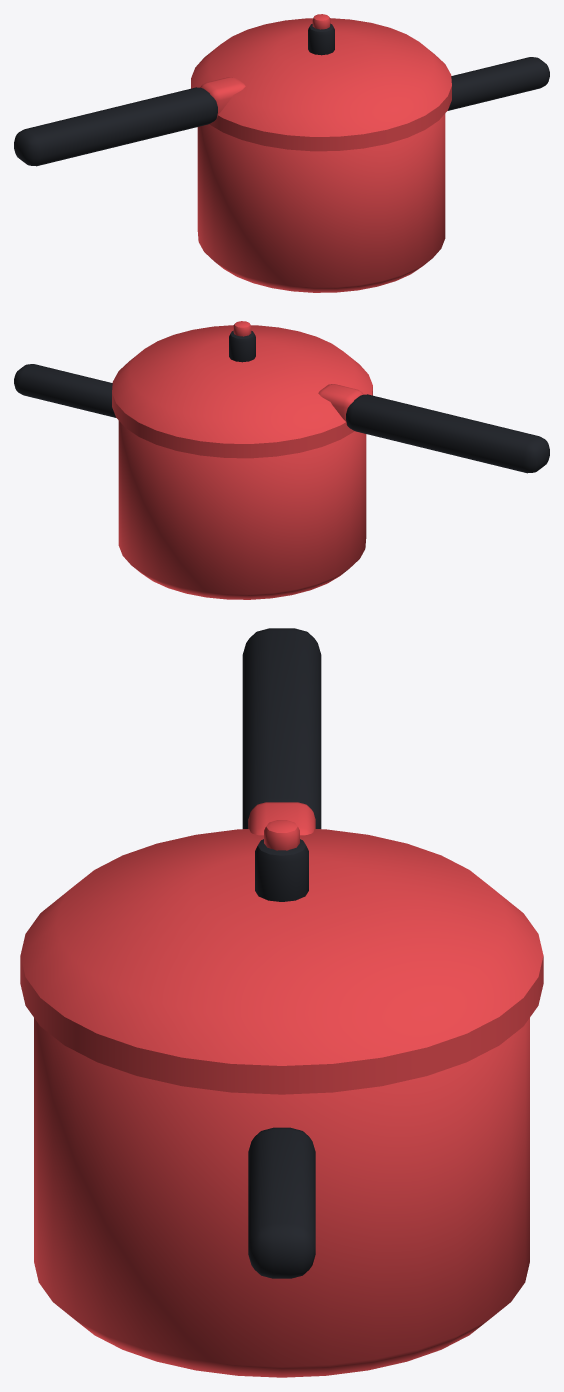
The model's file is panela_pressao_vermelha.glb.
The picture shows the model from 3 angles, top to bottom: view 1: azimuth 30°, elevation 25°; view 2: azimuth 150°, elevation 25°; view 3: azimuth 270°, elevation 25°; orthographic projection. The views are drawn at different scales.
Parts seen in each view (by area): view 1: panela_pressao_vermelha; view 2: panela_pressao_vermelha; view 3: panela_pressao_vermelha.
Part boxes in pixels (left/top/right/bottom): panela_pressao_vermelha: left=14, top=14, right=549, bottom=292; panela_pressao_vermelha: left=14, top=321, right=549, bottom=599; panela_pressao_vermelha: left=20, top=628, right=543, bottom=1377.
Bounding box in the file's own units: 0.54 × 0.224 × 0.232.
Materials: 1 (1 with a texture image).
